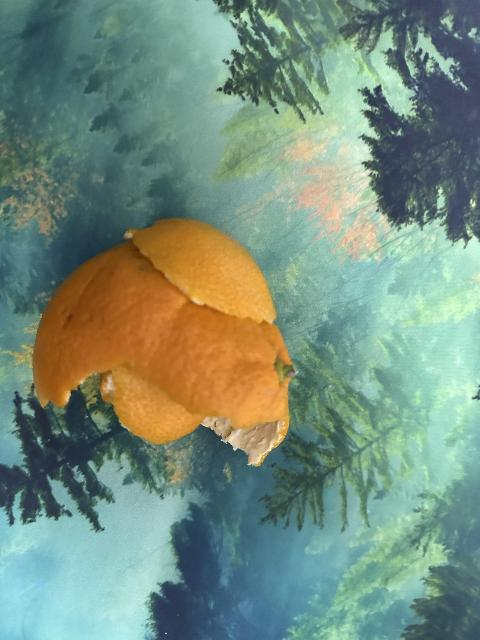Organik: (37, 224, 287, 452)
